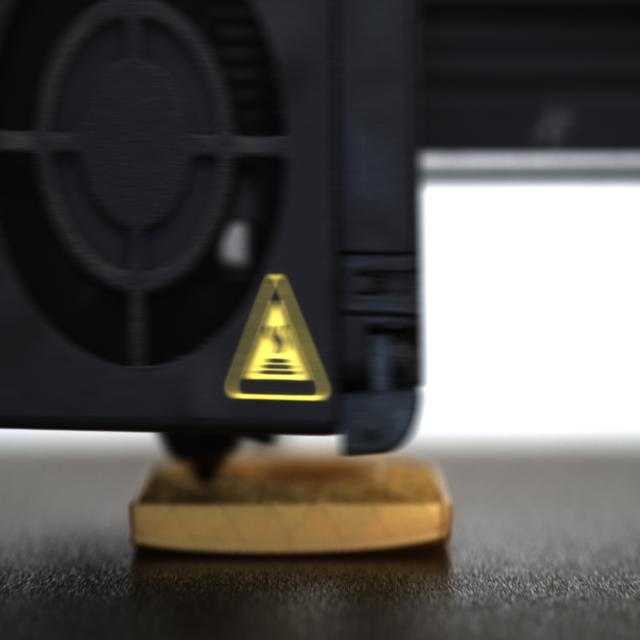Warping: (345, 526, 453, 561)
